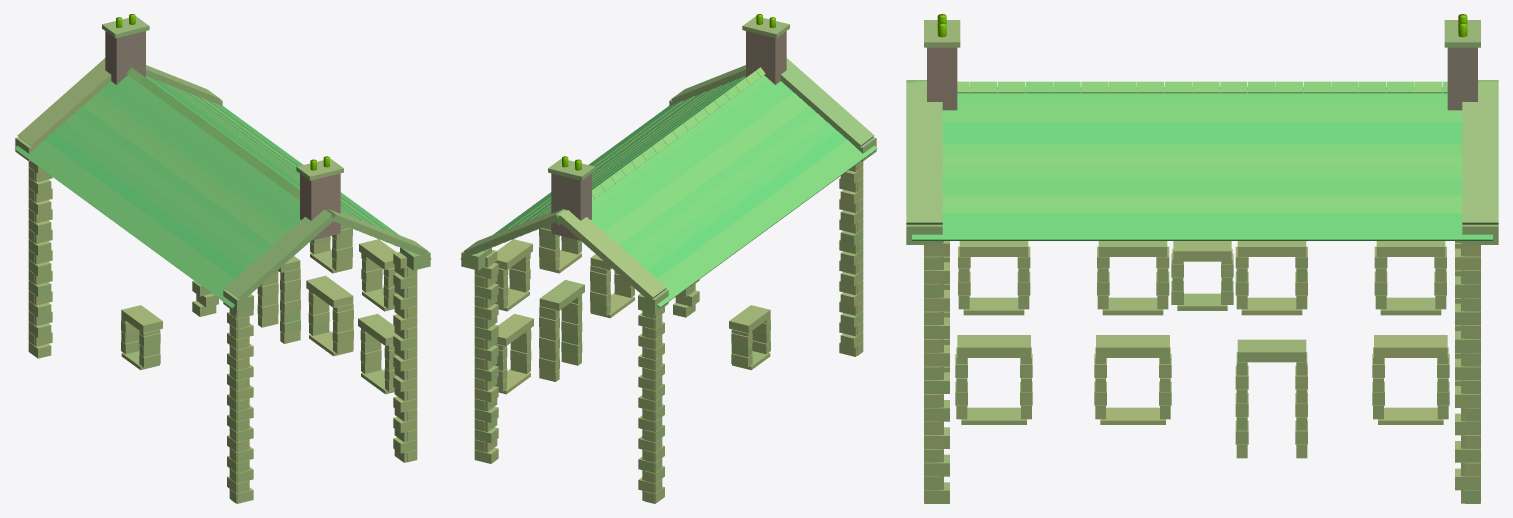
File: SM_Bld_004_Stone.glb
3 views of the same model, side by side, from view 1: azimuth 30°, elevation 25°; view 2: azimuth 150°, elevation 25°; view 3: azimuth 270°, elevation 25° (orthographic). The views are drawn at different scales.
Visible parts, largest first — view 1: SM_Bld_004_Stone; view 2: SM_Bld_004_Stone; view 3: SM_Bld_004_Stone.
Part boxes in pixels (x1,y1,x2,y2): SM_Bld_004_Stone: (14,14,431,503); SM_Bld_004_Stone: (460,14,877,503); SM_Bld_004_Stone: (906,14,1498,503).
Bounding box in the file's own units: 6.11 × 9.28 × 11.72.
